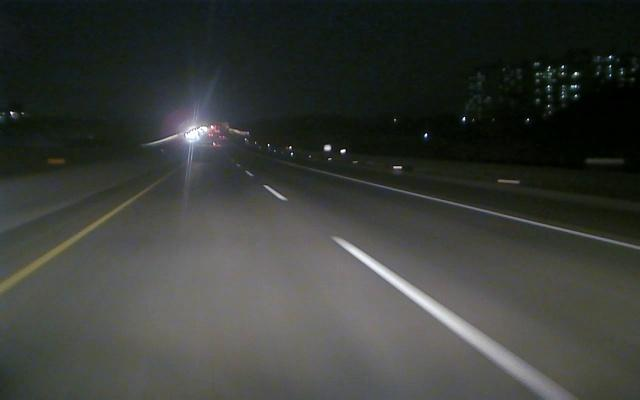lane: (261, 183, 576, 399), (330, 171, 640, 251), (2, 197, 135, 294)
